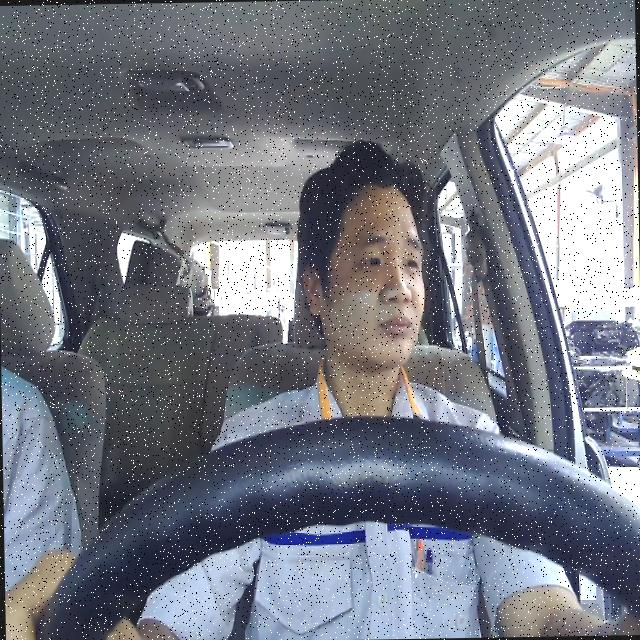seeing_right: (298, 180, 426, 370)
